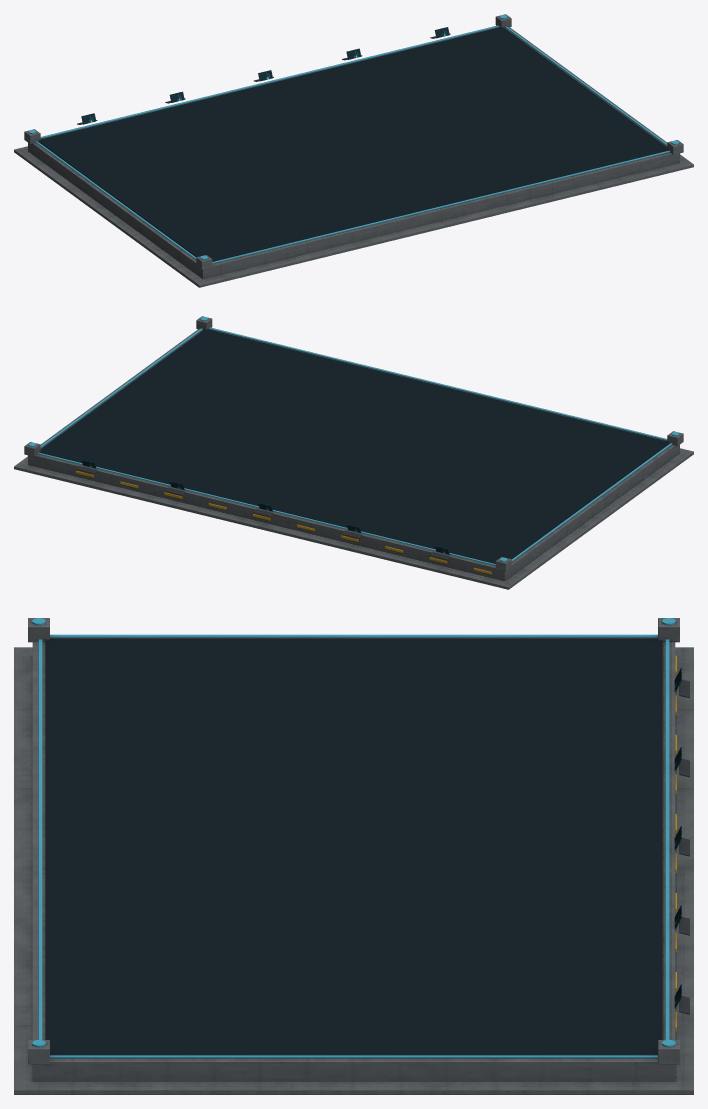
Rendered from base_holo_table.glb.
3 renders of one model, top to bottom at view 1: azimuth 30°, elevation 25°; view 2: azimuth 150°, elevation 25°; view 3: azimuth 270°, elevation 25°, orthographic. The views are drawn at different scales.
Parts seen in each view (by area): view 1: base_holo_table.007; view 2: base_holo_table.007; view 3: base_holo_table.007.
Part boxes in pixels (x1,y1,x2,y2): base_holo_table.007: (14,14,693,287); base_holo_table.007: (14,316,693,589); base_holo_table.007: (14,618,693,1094).
Size of the model in its own units: 33.6 by 1.48 by 21.8.
6 materials, 6 textured.
